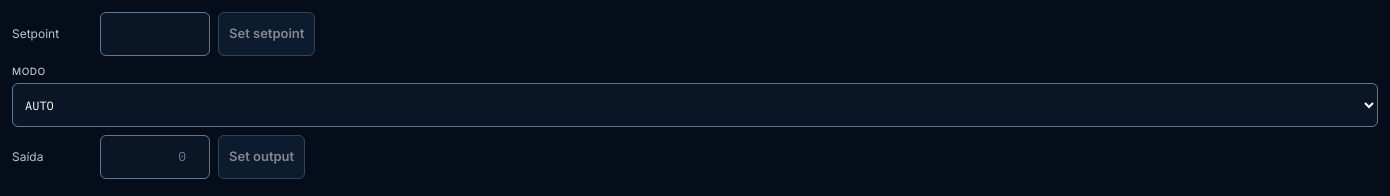
Scenario: CardControls — the user role commands the loop › disables Set setpoint only while the box is empty, not because of the role
The width and height of the screenshot is (1390, 196).
expect the button "Set setpoint" is disabled: met, box [218,12,315,56]
Type "40" into the number field labelled "Setpoint" at (155, 34), box [100,12,210,56]
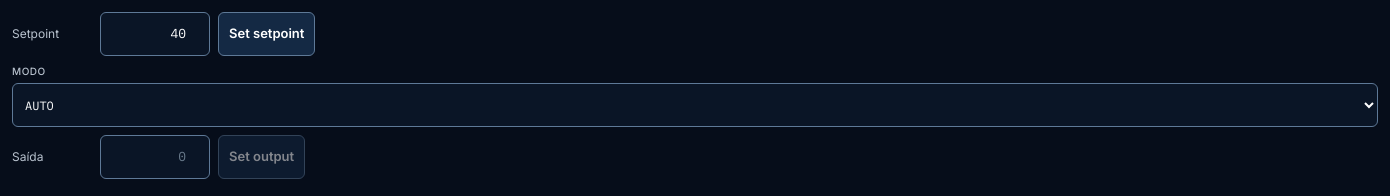
expect the button "Set setpoint" is enabled: met, box [218,12,315,56]
